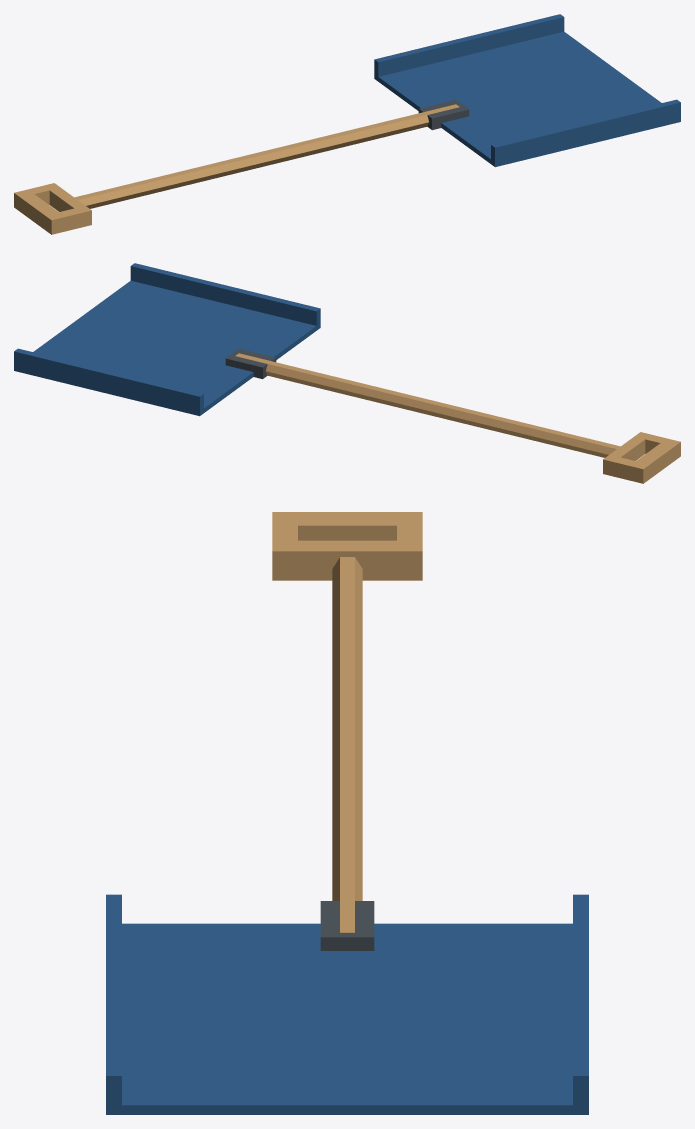
File: GT_SnowShovel_01.glb
3 views of the same model, one above another, from view 1: azimuth 30°, elevation 25°; view 2: azimuth 150°, elevation 25°; view 3: azimuth 270°, elevation 25° (orthographic). The views are drawn at different scales.
Parts seen in each view (by area): view 1: GT_SnowShovel_01; view 2: GT_SnowShovel_01; view 3: GT_SnowShovel_01.
Boxes of the visible parts, left/top/right/bottom form: GT_SnowShovel_01: left=14, top=14, right=680, bottom=234; GT_SnowShovel_01: left=14, top=263, right=680, bottom=483; GT_SnowShovel_01: left=106, top=512, right=588, bottom=1114.
Size of the model in its own units: 1.26 by 0.04 by 0.45.
1 material, 1 textured.
